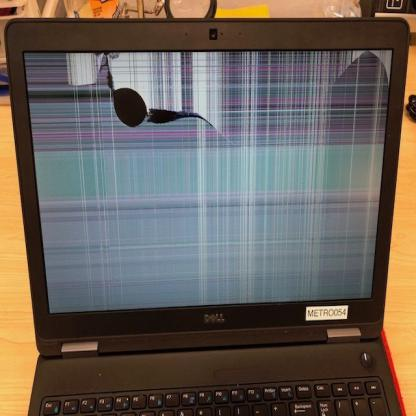crack: (21, 49, 392, 323), (101, 61, 244, 155)
spot: (148, 100, 218, 142), (109, 78, 151, 140)
